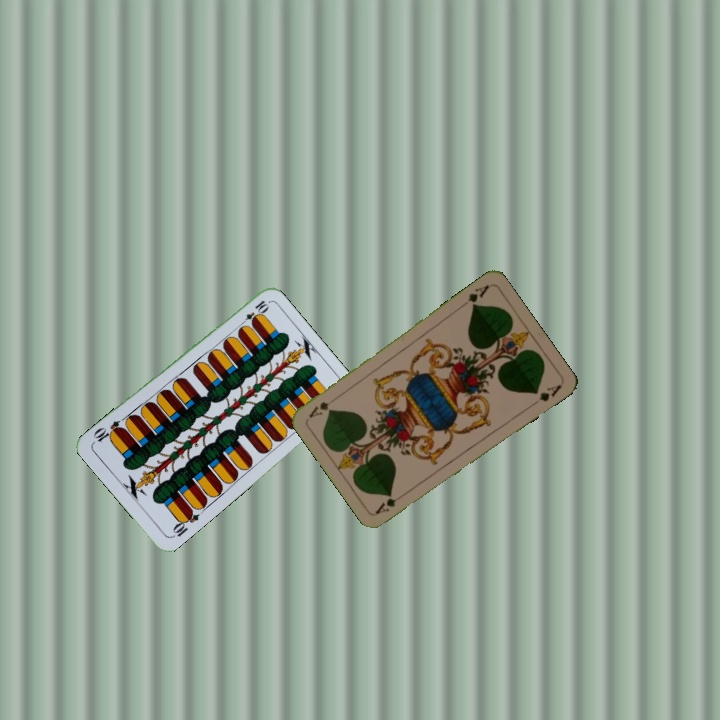E10: (168, 505, 202, 540), (236, 296, 271, 329)
GA: (457, 281, 492, 310), (372, 489, 408, 517)
